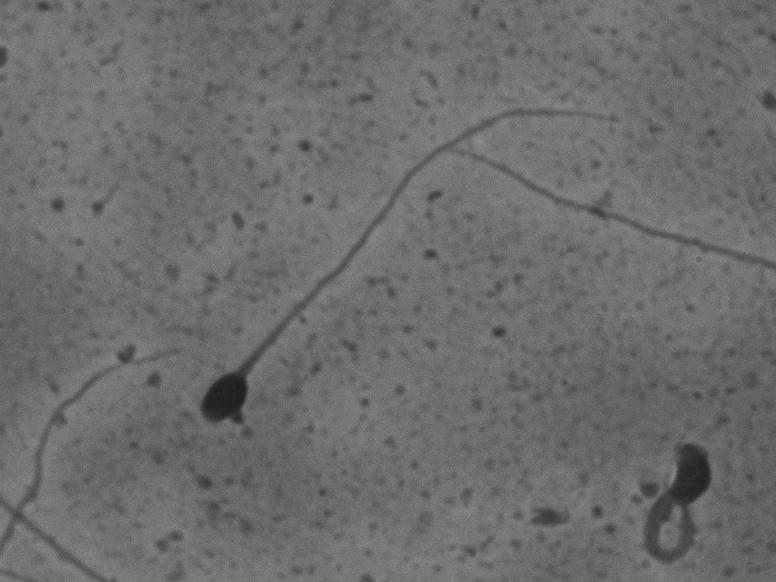Abnormal: (610, 421, 738, 569)
Normal: (168, 53, 650, 466)
